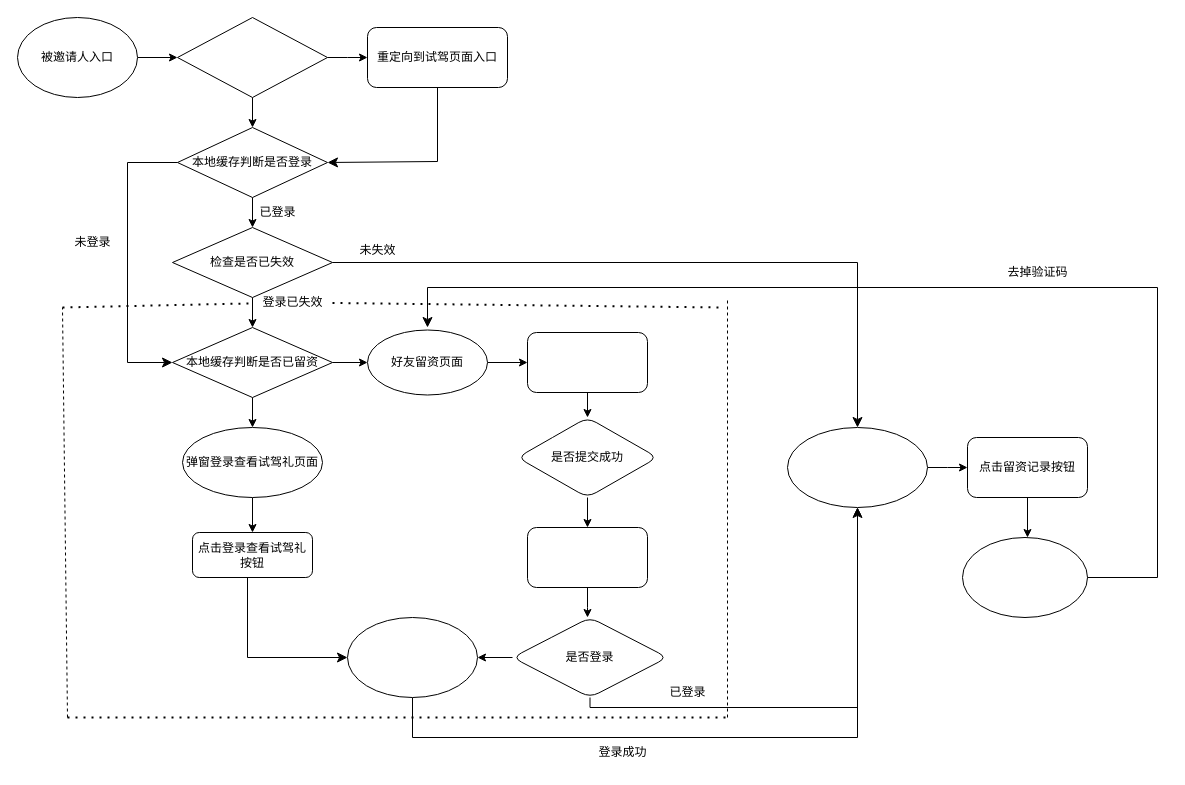
Image size: 1185x785. Some labels were removed from this diagram. Each missing label, with the centre of its shape:
好友抽奖页面: [857,467]
弹窗提示提交成功 点击查看试驾礼按钮: [587,557]
是否是推荐试驾页面入口: [252,57]
点击接收邀请按钮: [587,362]
留资记录页面: [1025,577]
登录页面: [412,657]
